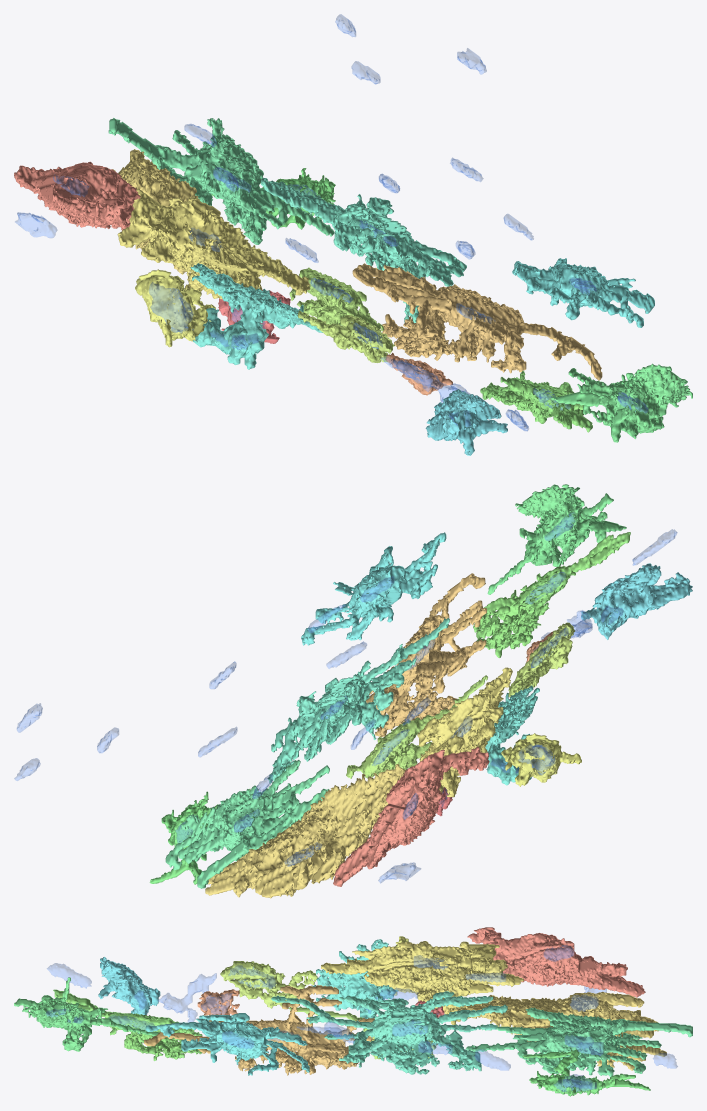
3 views of the same model, one above another, from view 1: azimuth 30°, elevation 25°; view 2: azimuth 150°, elevation 25°; view 3: azimuth 270°, elevation 25° (orthographic). The views are drawn at different scales.
Parts seen in each view (by area): view 1: osteocyte_58, osteocyte_83, osteocyte_42, osteocyte_63, osteocyte_80, osteocyte_75, osteocyte_29, osteocyte_84, osteocyte_46, osteocyte_55, osteocyte_50, osteocyte_34 (+8 smaller); view 2: osteocyte_27, osteocyte_42, osteocyte_63, osteocyte_58, osteocyte_75, osteocyte_84, osteocyte_80, osteocyte_55, osteocyte_83, osteocyte_50, osteocyte_34, osteocyte_46 (+4 smaller); view 3: osteocyte_63, osteocyte_83, osteocyte_42, osteocyte_75, osteocyte_58, osteocyte_27, osteocyte_84, osteocyte_80, osteocyte_55, osteocyte_66, osteocyte_29, osteocyte_20 (+24 smaller).
Boxes of the visible parts, x1,y1,x2,y2 form: osteocyte_58: [352, 263, 602, 380]; osteocyte_83: [117, 189, 310, 299]; osteocyte_42: [108, 118, 334, 244]; osteocyte_63: [261, 177, 466, 322]; osteocyte_80: [551, 363, 692, 442]; osteocyte_75: [14, 161, 140, 230]; osteocyte_29: [190, 263, 322, 369]; osteocyte_84: [512, 258, 654, 327]; osteocyte_46: [135, 269, 215, 347]; osteocyte_55: [480, 371, 592, 432]; osteocyte_50: [425, 389, 507, 455]; osteocyte_34: [289, 267, 384, 331]; osteocyte_27: [205, 764, 405, 898]; osteocyte_42: [165, 759, 329, 888]; osteocyte_63: [267, 618, 449, 783]; osteocyte_58: [366, 573, 486, 736]; osteocyte_75: [333, 747, 489, 886]; osteocyte_84: [301, 532, 446, 645]; osteocyte_80: [487, 484, 626, 594]; osteocyte_55: [473, 532, 630, 657]; osteocyte_83: [417, 667, 512, 797]; osteocyte_50: [581, 563, 692, 639]; osteocyte_34: [346, 675, 487, 778]; osteocyte_46: [501, 733, 581, 786]; osteocyte_63: [271, 991, 507, 1074]; osteocyte_83: [321, 941, 523, 1024]; osteocyte_42: [466, 1007, 692, 1076]; osteocyte_75: [467, 927, 645, 997]; osteocyte_58: [144, 985, 374, 1075]; osteocyte_27: [456, 991, 666, 1070]; osteocyte_84: [145, 1013, 309, 1075]; osteocyte_80: [14, 977, 158, 1051]; osteocyte_55: [53, 989, 202, 1060]; osteocyte_66: [220, 961, 317, 1008]; osteocyte_29: [311, 939, 398, 1018]; osteocyte_20: [522, 1049, 650, 1096].
Bounding box in the file's own units: 110 × 25.52 × 201.
